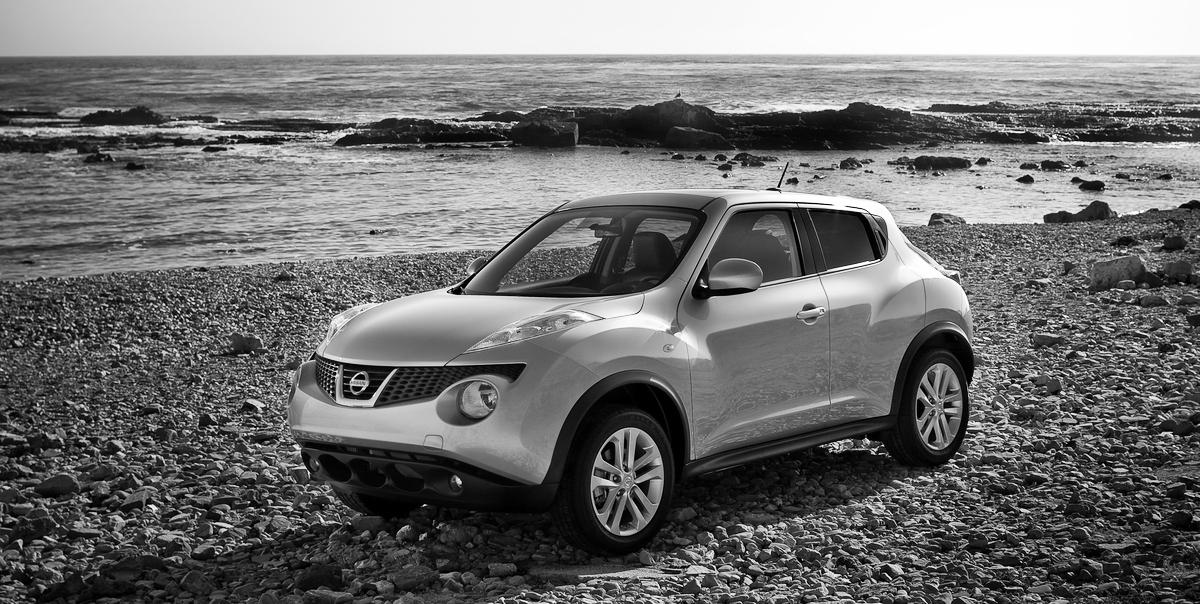car: (284, 159, 980, 564)
